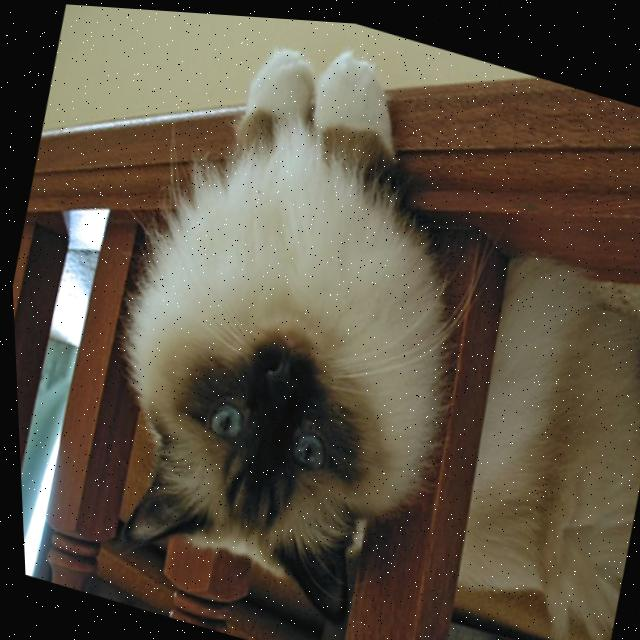Birman: (56, 3, 640, 640)
